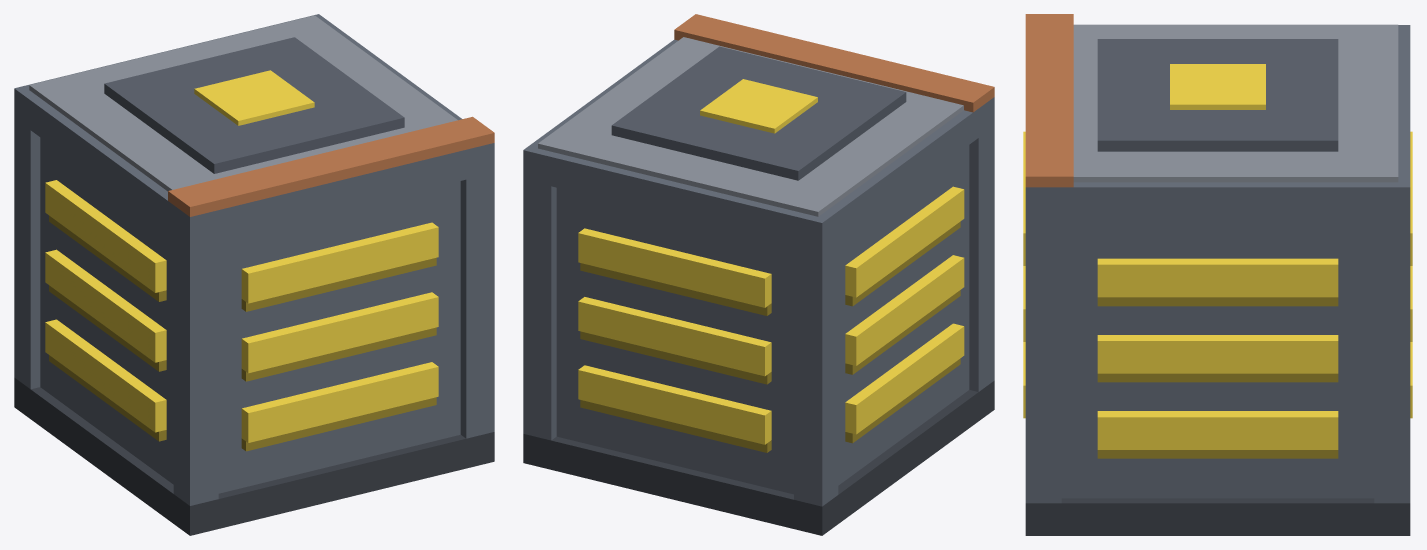
Rendered from dock_charge.glb.
3 views of the same model, side by side, from view 1: azimuth 30°, elevation 25°; view 2: azimuth 150°, elevation 25°; view 3: azimuth 270°, elevation 25° (orthographic). The views are drawn at different scales.
Parts seen in each view (by area): view 1: body.036, tier.019; view 2: body.036, tier.019; view 3: body.036, tier.019.
Part boxes in pixels (x1=…): body.036: x1=14, y1=14, x2=494, y2=535; tier.019: x1=168, y1=116, x2=494, y2=216; body.036: x1=523, y1=37, x2=994, y2=535; tier.019: x1=674, y1=14, x2=994, y2=112; body.036: x1=1023, y1=24, x2=1412, y2=535; tier.019: x1=1025, y1=14, x2=1073, y2=187.
Bounding box in the file's own units: 1.01 × 1.06 × 1.01.
